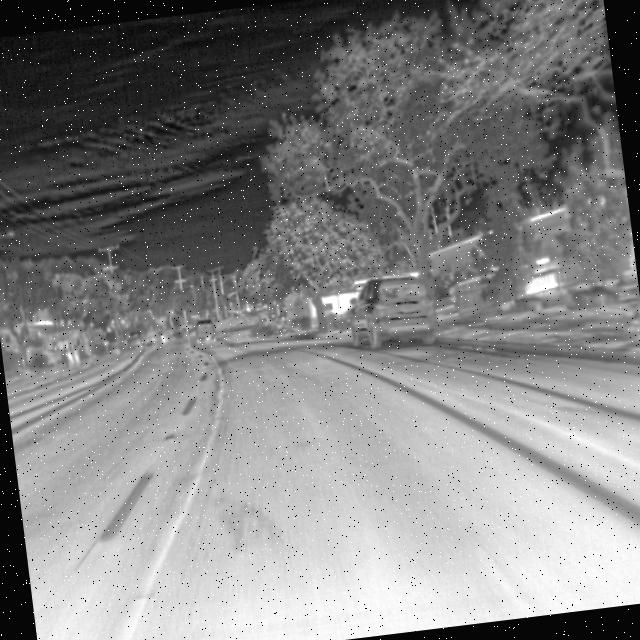Vehicle: (339, 266, 442, 356), (191, 315, 218, 344)
